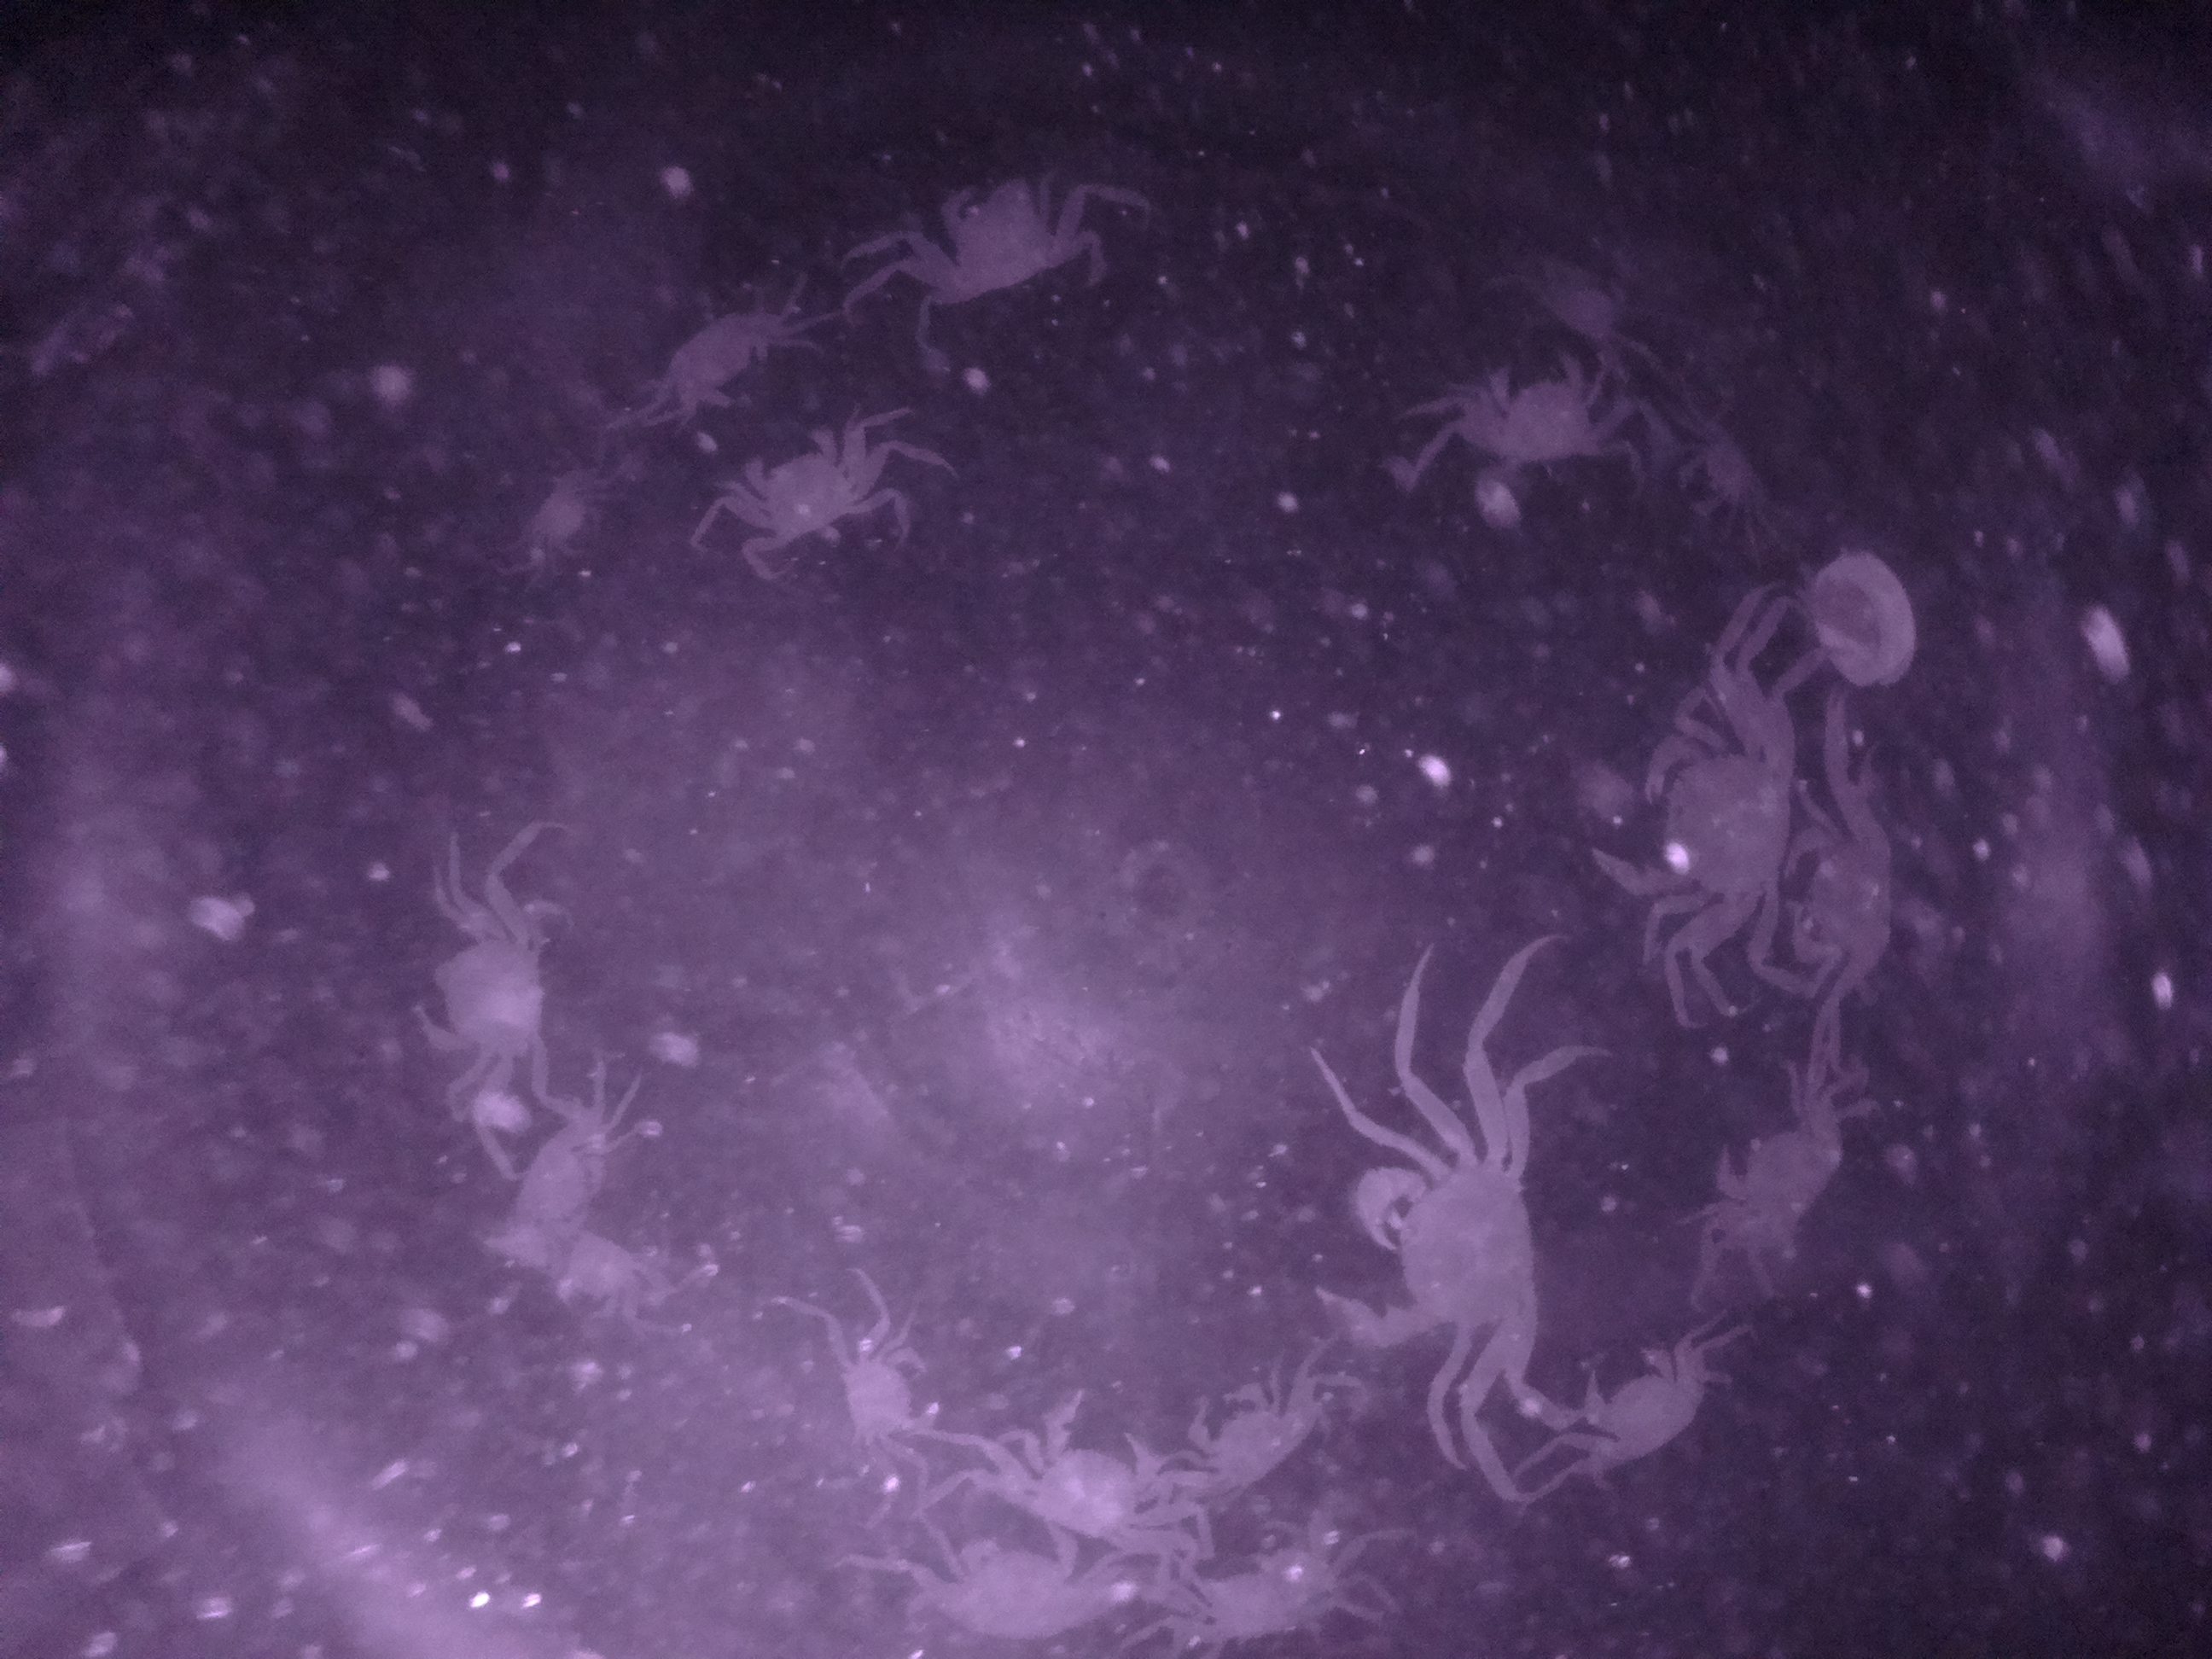Crab: (1294, 1115, 1561, 1364), (1585, 709, 1803, 932), (996, 1385, 1177, 1549), (909, 159, 1094, 319), (1703, 1073, 1851, 1270), (404, 906, 566, 1080), (1562, 1328, 1712, 1483), (1784, 802, 1912, 976), (819, 1310, 956, 1466), (1447, 347, 1611, 476), (732, 415, 866, 565), (1172, 1370, 1317, 1504), (648, 295, 796, 425)
